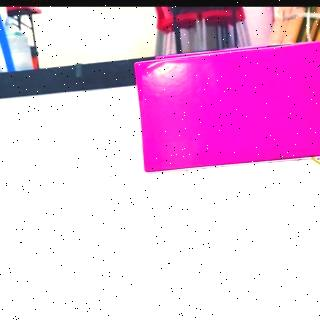xparking: (139, 62, 320, 165)
